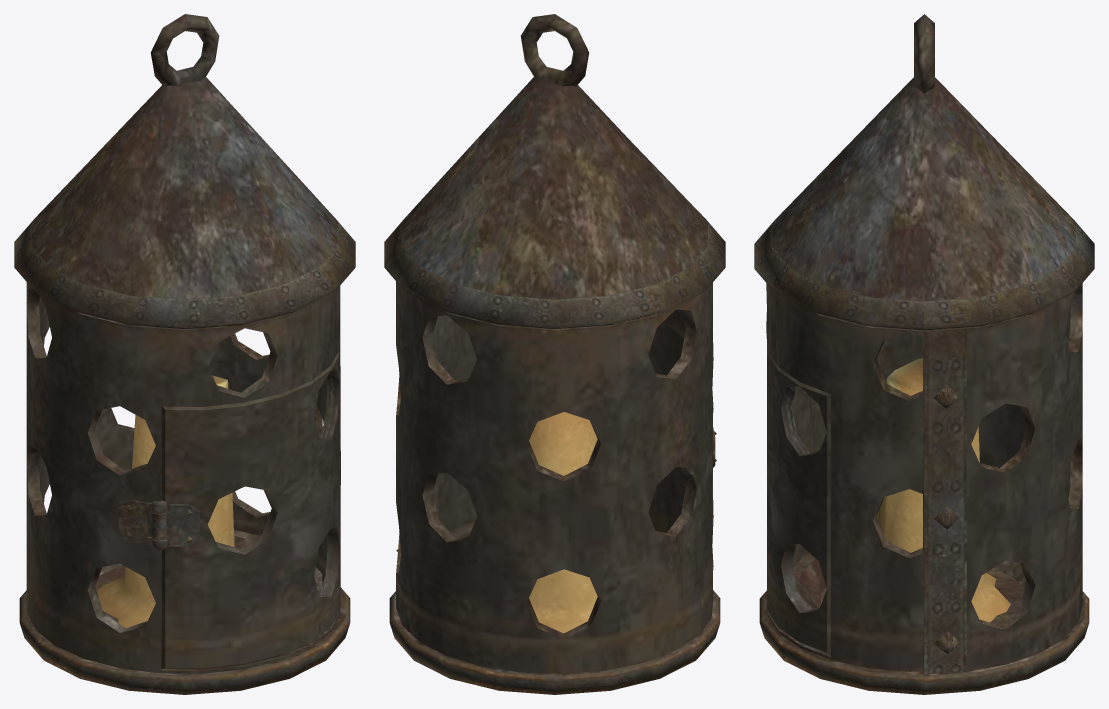
Rendered from GEN_PRO_Candle_Lamp_02A_LOD0-transformed.glb.
The picture shows the model from 3 angles, left to right: view 1: azimuth 30°, elevation 25°; view 2: azimuth 150°, elevation 25°; view 3: azimuth 270°, elevation 25°; orthographic projection.
Parts seen in each view (by area): view 1: default; view 2: default; view 3: default.
Part boxes in pixels (box(x1,y1,x2,y2)): default: box(14, 14, 355, 694); default: box(384, 14, 725, 694); default: box(754, 14, 1094, 694).
Bounding box in the file's own units: 0.2232 × 0.4346 × 0.2196.
3 materials, 3 textured.
